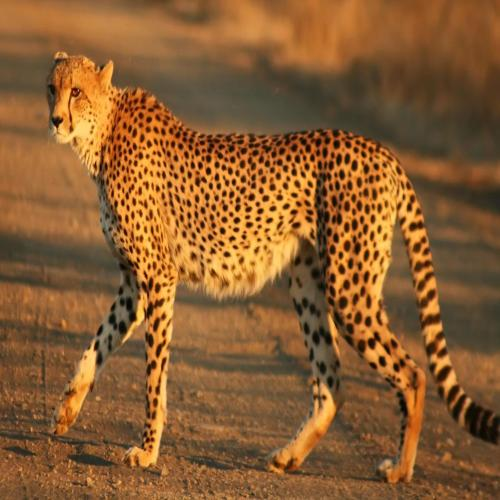cheetah-endangered: (47, 55, 500, 481)
